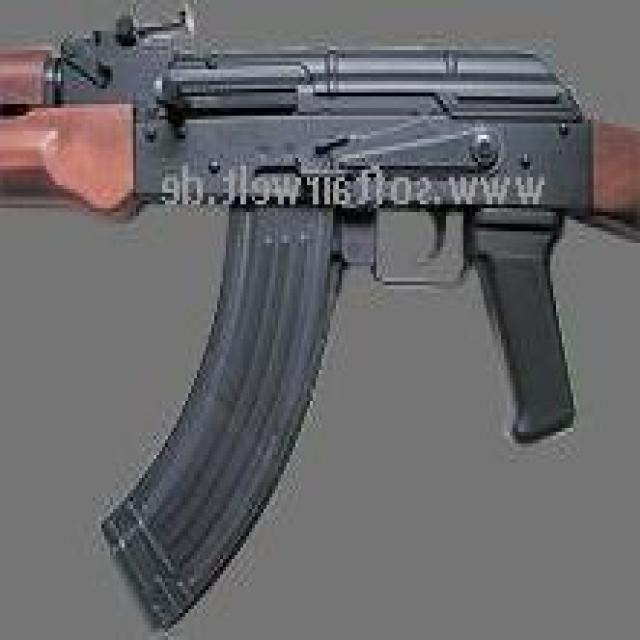Gun: (9, 41, 592, 617)
